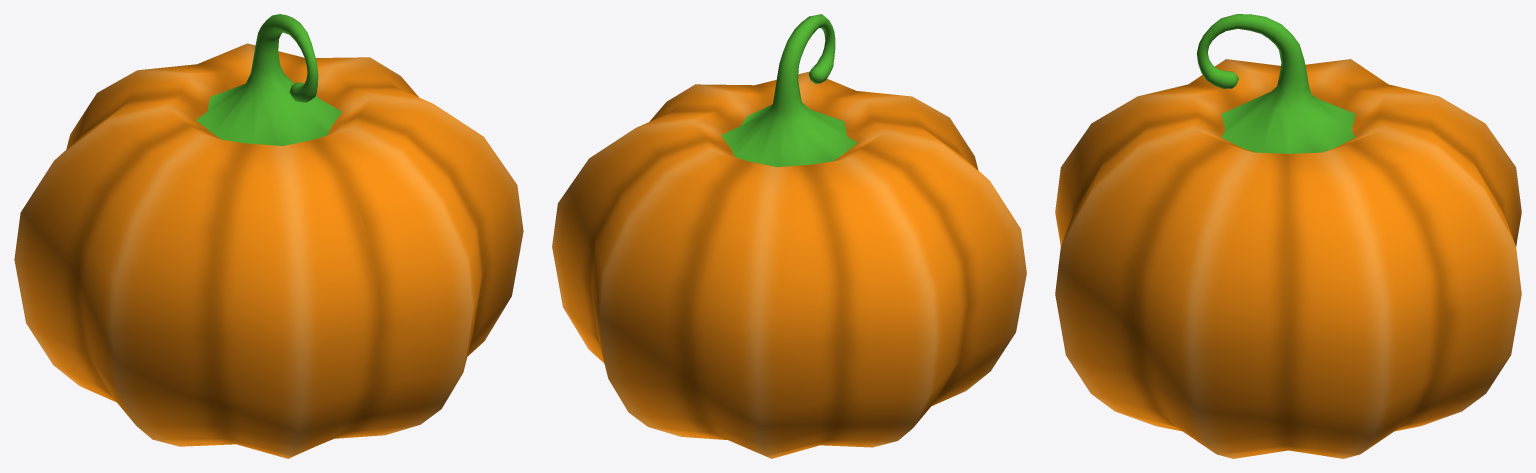
The model's file is pumpkin.fbx.
The picture shows the model from 3 angles, left to right: view 1: azimuth 30°, elevation 25°; view 2: azimuth 150°, elevation 25°; view 3: azimuth 270°, elevation 25°; orthographic projection. The views are drawn at different scales.
Visible parts, largest first — view 1: Pumpkin; view 2: Pumpkin; view 3: Pumpkin.
Part boxes in pixels (x1,y1,x2,y2): Pumpkin: [14, 14, 523, 458]; Pumpkin: [552, 14, 1026, 458]; Pumpkin: [1055, 14, 1521, 458].
Bounding box in the file's own units: 187 × 172 × 187.
Materials: 1 (1 with a texture image).
